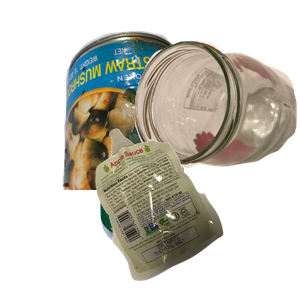glass: (132, 38, 300, 199)
metal: (60, 28, 300, 208)
plastic: (98, 176, 266, 300)
trash: (93, 126, 300, 300)
